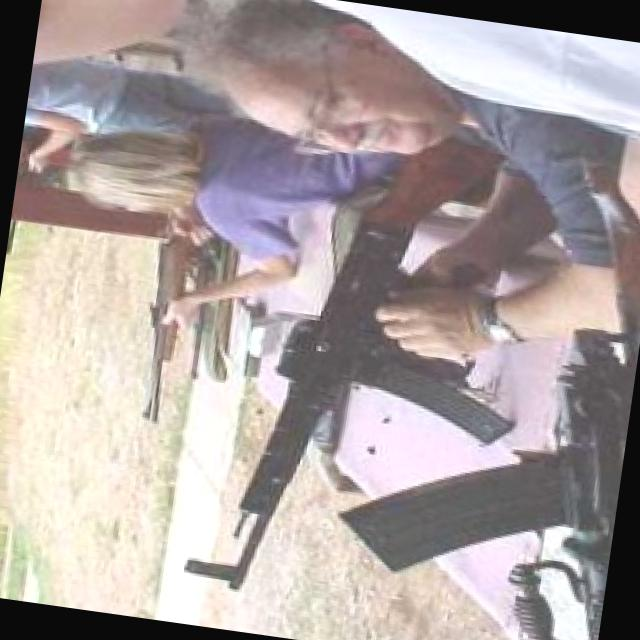long weapon: (177, 149, 499, 639)
